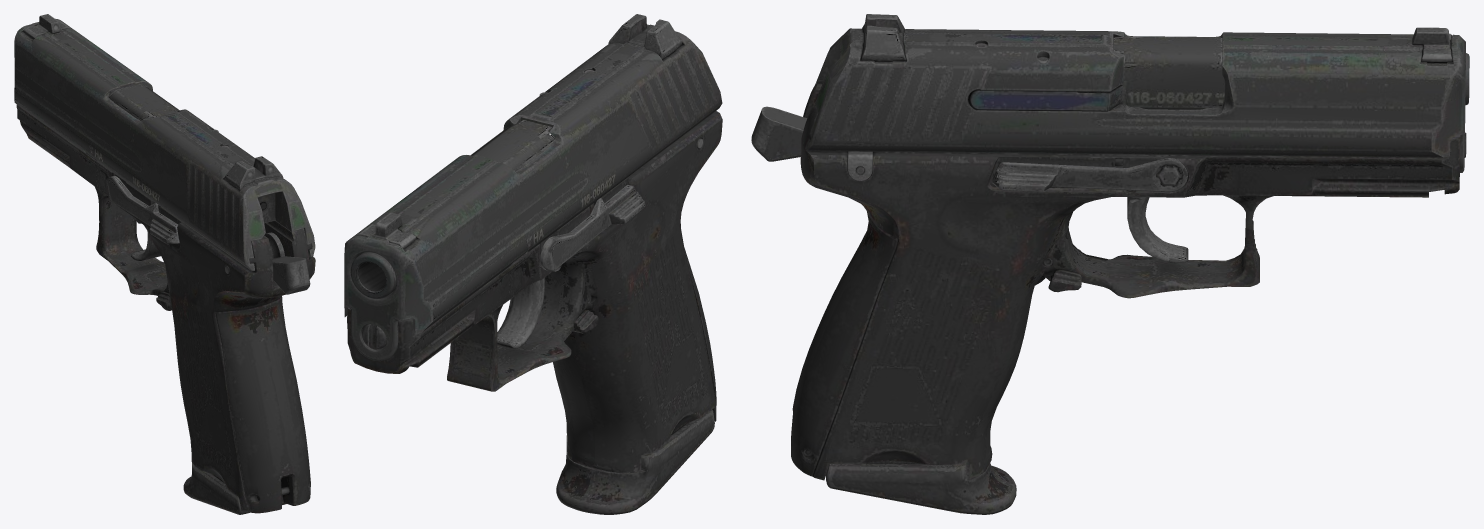
3 views of the same model, side by side, from view 1: azimuth 30°, elevation 25°; view 2: azimuth 150°, elevation 25°; view 3: azimuth 270°, elevation 25° (orthographic). The views are drawn at different scales.
Parts seen in each view (by area): view 1: v_p2000_R; view 2: v_p2000_R; view 3: v_p2000_R.
Part boxes in pixels (x1,y1,x2,y2): v_p2000_R: [14, 14, 315, 514]; v_p2000_R: [344, 14, 722, 514]; v_p2000_R: [751, 14, 1469, 514].
Bounding box in the file's own units: 0.0373 × 0.1426 × 0.1956.
Materials: 1 (1 with a texture image).
